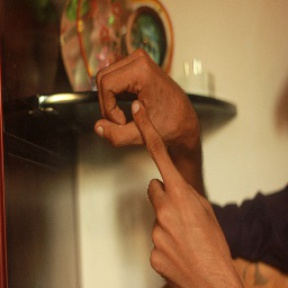Q: (84, 46, 211, 228)
